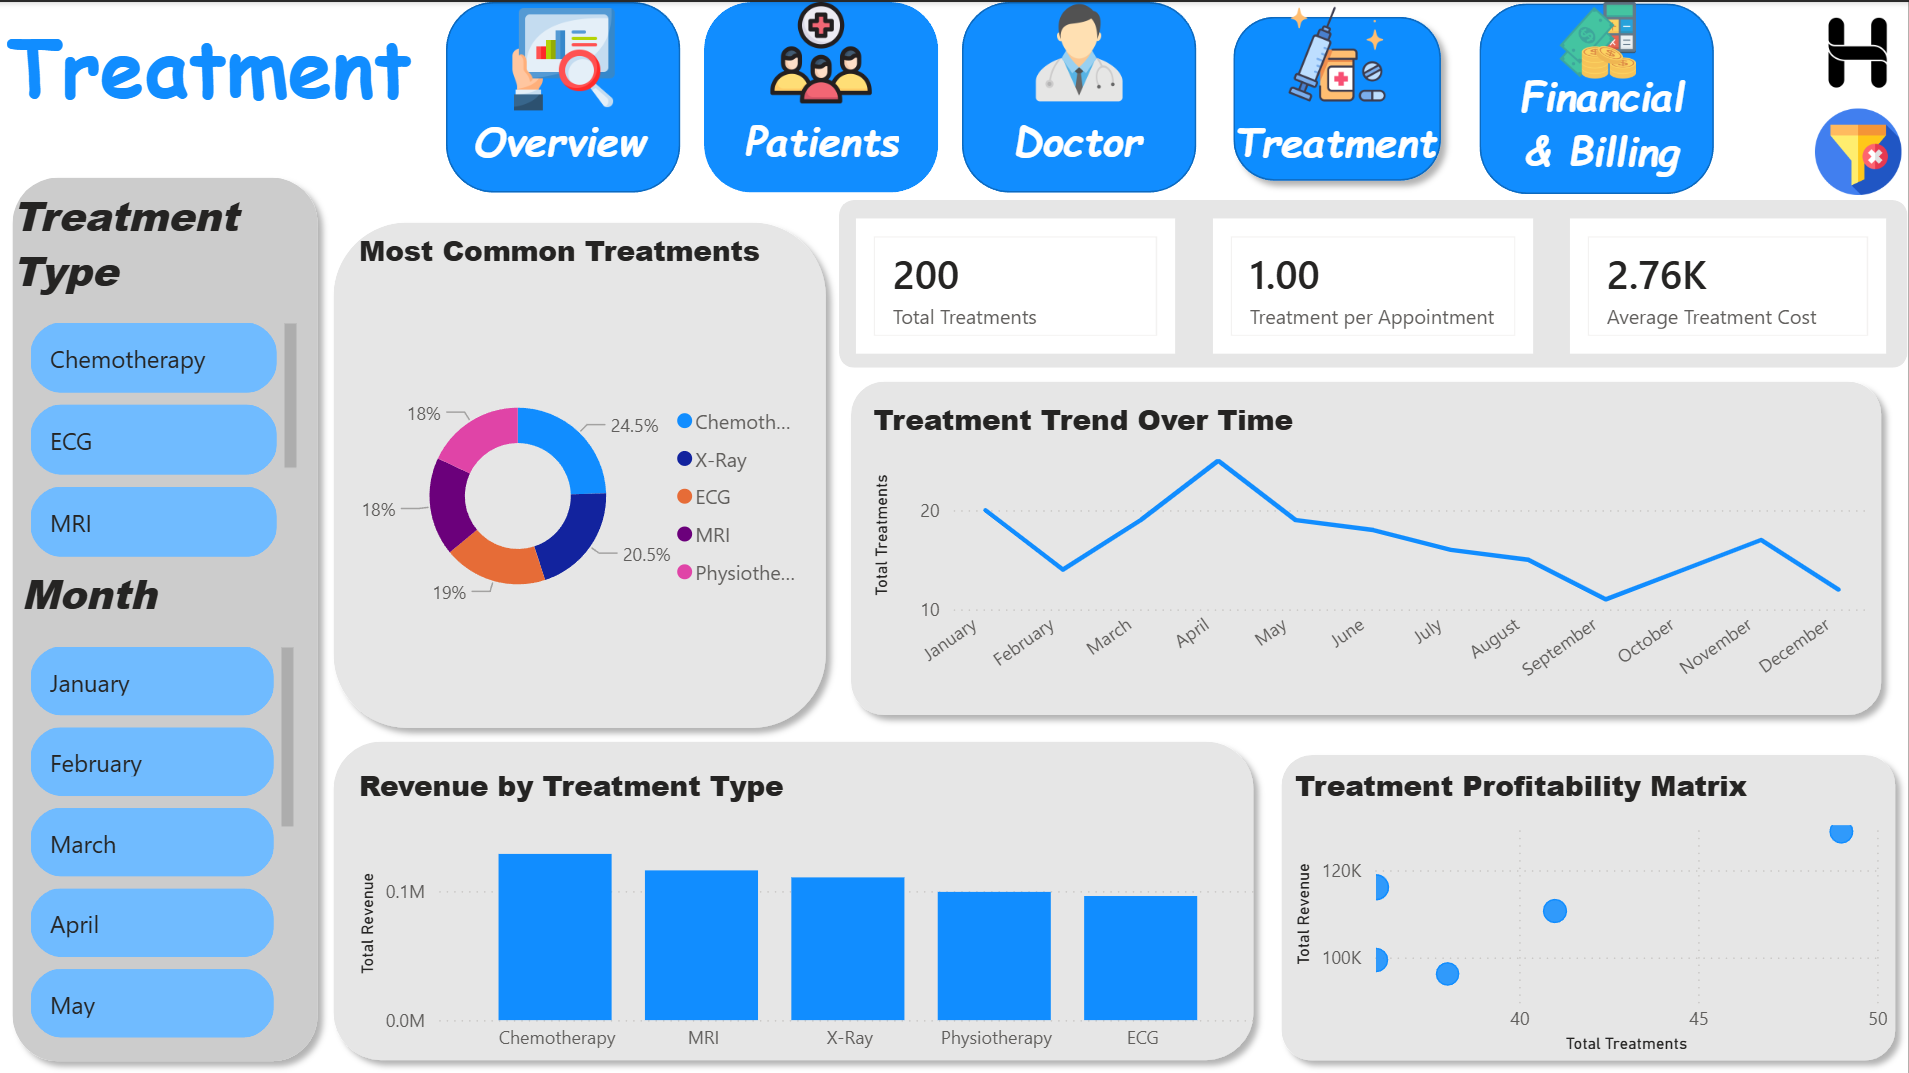

This screenshot's page, from the dashboard's own definition file:
{"tool":"powerbi","page":{"name":"Treatment","canvas":[1280,720],"ordinal":4},"visuals":[{"type":"textbox","box":[0,0,288.1,87.7],"z":0},{"type":"shape","box":[0,108.6,222.7,610.7],"z":1000},{"type":"shape","box":[299.7,0,157.1,127.8],"z":2000,"group":"g1"},{"type":"shape","box":[472.6,0,157.1,127.8],"z":2000,"group":"g2"},{"type":"shape","box":[645.7,0,157.1,127.8],"z":2000,"group":"g3"},{"type":"shape","box":[818.5,1,157.1,127.8],"z":2000,"group":"g4"},{"type":"shape","box":[992.9,1.1,157.1,127.8],"z":2000,"group":"g5"},{"type":"shape","box":[215.4,487.2,635,231.7],"z":2000},{"type":"image","box":[1039.1,-0.1,65.8,51.5],"z":3000,"group":"g5"},{"type":"image","box":[504.2,0,94.9,68],"z":3000,"group":"g2"},{"type":"image","box":[677.3,0,94.9,68],"z":3000,"group":"g3"},{"type":"image","box":[850.1,1,94.9,68],"z":3000,"group":"g4"},{"type":"image","box":[330.9,4,95.5,68.4],"z":3000,"group":"g1"},{"type":"columnChart","title":"Revenue by Treatment Type","fields":{"Category":["Treatment.Treatment_Type"],"Y":["MeasuresTable.Total Revenue"]},"box":[236.7,512.3,613.7,200.4],"z":3000},{"type":"textbox","box":[997.4,38.4,155.6,85.5],"z":4000,"group":"g5"},{"type":"textbox","box":[494.9,68,113.7,49.2],"z":4000,"group":"g2"},{"type":"textbox","box":[313.1,68.4,133.8,49.3],"z":4000,"group":"g1"},{"type":"textbox","box":[674.9,68.4,106.6,49.3],"z":4000,"group":"g3"},{"type":"textbox","box":[822.8,69.1,155.4,50],"z":4000,"group":"g4"},{"type":"shape","box":[215.4,139,348.2,356.9],"z":4000},{"type":"shape","box":[563.5,133.2,716.5,112.5],"z":5000},{"type":"cardVisual","fields":{"Data":["MeasuresTable.Total Treatments"]},"box":[569.4,139.4,224.6,101.1],"z":6000},{"type":"cardVisual","fields":{"Data":["MeasuresTable.Treatment per Appointment"]},"box":[808.3,139.4,225.6,101.1],"z":7000},{"type":"cardVisual","fields":{"Data":["MeasuresTable.Average Treatment Cost"]},"box":[1048.3,139.4,222.4,101.1],"z":8000},{"type":"textbox","box":[10,372,104,55.1],"z":9000},{"type":"advancedSlicerVisual","fields":{"Values":["DateTable.Month Name"]},"box":[16.3,427.1,186.6,273],"z":10000},{"type":"group","id":"g1","title":"Group 1","box":[299.7,0,157.1,127.8],"z":11000},{"type":"group","id":"g2","title":"Group 1","box":[472.6,0,157.3,127.8],"z":12000},{"type":"group","id":"g3","title":"Group 1","box":[645.7,0,157.1,127.8],"z":13000},{"type":"shape","box":[850.4,496,429.6,222.9],"z":14000},{"type":"donutChart","title":"Most Common Treatments","fields":{"Category":["Treatment.Treatment_Type"],"Y":["MeasuresTable.Total Treatments"]},"box":[236.7,152.8,314.4,329.4],"z":15000},{"type":"textbox","box":[3.8,119,200.4,91.4],"z":17000},{"type":"group","id":"g4","title":"Group 1","box":[818.5,1,159.6,127.8],"z":18000},{"type":"shape","box":[562.3,245.5,708.9,241.7],"z":19000},{"type":"lineChart","title":"Treatment Trend Over Time","fields":{"Category":["Treatment.Treatment_Date.Variation.Date Hierarchy.Month"],"Y":["MeasuresTable.Total Treatments"]},"box":[581.1,266.8,677.6,200.4],"z":20000},{"type":"scatterChart","title":"Treatment Profitability Matrix","fields":{"X":["MeasuresTable.Total Treatments"],"Y":["MeasuresTable.Total Revenue"],"Size":["MeasuresTable.Average Treatment Cost"],"Category":["Treatment.Treatment_Type"]},"box":[864.2,512.3,407,196.6],"z":21000},{"type":"image","box":[1213.2,0,66.8,67.9],"z":22000},{"type":"group","id":"g5","title":"Group 1","box":[992.9,-0.1,160.1,129],"z":23000},{"type":"image","box":[1213.2,71.2,66.8,58.1],"z":24000},{"type":"advancedSlicerVisual","fields":{"Values":["Treatment.Treatment_Type"]},"box":[16.1,210.2,188.1,170],"z":24001}]}

Visuals, with their boxes in screenshot pixels (x1, y1, x2, y2), scaled from the page's 1280x720 canvas onto the 1909x1073 screenshot:
textbox: region(0, 0, 430, 131)
shape: region(0, 162, 332, 1072)
shape: region(447, 0, 681, 190)
shape: region(705, 0, 939, 190)
shape: region(963, 0, 1197, 190)
shape: region(1221, 1, 1455, 192)
shape: region(1481, 2, 1715, 192)
shape: region(321, 726, 1268, 1071)
image: region(1550, 0, 1648, 77)
image: region(752, 0, 894, 101)
image: region(1010, 0, 1152, 101)
image: region(1268, 1, 1409, 103)
image: region(494, 6, 636, 108)
"Revenue by Treatment Type" columnChart: region(353, 763, 1268, 1062)
textbox: region(1488, 57, 1720, 185)
textbox: region(738, 101, 908, 175)
textbox: region(467, 102, 667, 175)
textbox: region(1007, 102, 1166, 175)
textbox: region(1227, 103, 1459, 177)
shape: region(321, 207, 841, 739)
shape: region(840, 199, 1908, 366)
cardVisual - MeasuresTable.Total Treatments: region(849, 208, 1184, 358)
cardVisual - MeasuresTable.Treatment per Appointment: region(1206, 208, 1542, 358)
cardVisual - MeasuresTable.Average Treatment Cost: region(1563, 208, 1895, 358)
textbox: region(15, 554, 170, 636)
advancedSlicerVisual - DateTable.Month Name: region(24, 636, 303, 1043)
"Group 1" group: region(447, 0, 681, 190)
"Group 1" group: region(705, 0, 939, 190)
"Group 1" group: region(963, 0, 1197, 190)
shape: region(1268, 739, 1908, 1071)
"Most Common Treatments" donutChart: region(353, 228, 822, 719)
textbox: region(6, 177, 305, 314)
"Group 1" group: region(1221, 1, 1459, 192)
shape: region(839, 366, 1896, 726)
"Treatment Trend Over Time" lineChart: region(867, 398, 1877, 696)
"Treatment Profitability Matrix" scatterChart: region(1289, 763, 1896, 1056)
image: region(1809, 0, 1908, 101)
"Group 1" group: region(1481, 0, 1720, 192)
image: region(1809, 106, 1908, 193)
advancedSlicerVisual - Treatment.Treatment_Type: region(24, 313, 305, 567)
